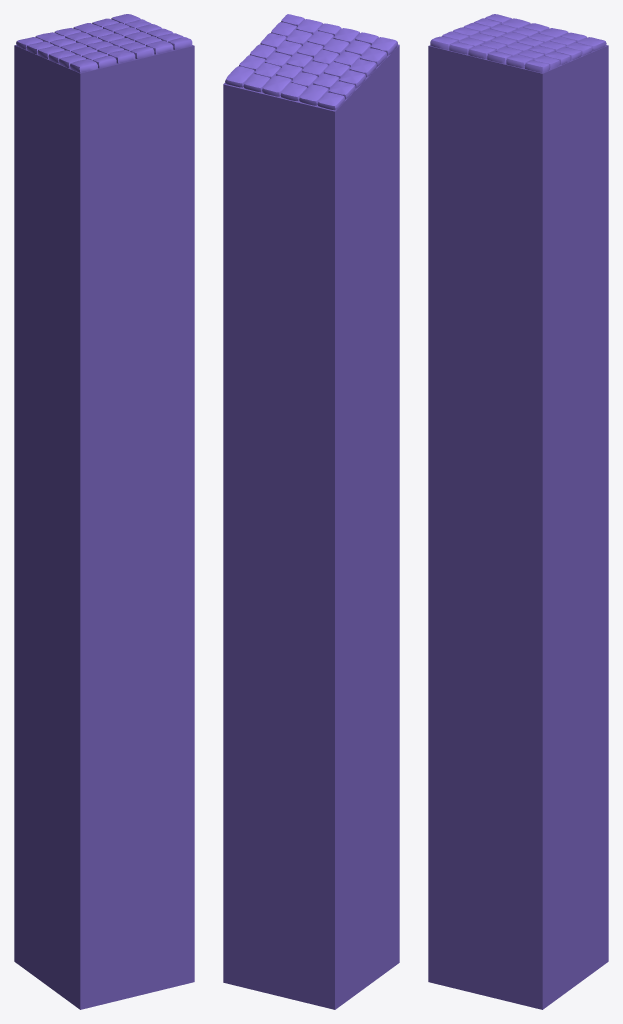
Rendered from TiltedTiles.fbx.
The picture shows the model from 3 angles, left to right: view 1: azimuth 30°, elevation 25°; view 2: azimuth 150°, elevation 25°; view 3: azimuth 330°, elevation 25°; orthographic projection. The views are drawn at different scales.
Visible parts, largest first — view 1: Cube.145; view 2: Cube.145; view 3: Cube.145.
Part boxes in pixels (<box>): Cube.145: <box>14,14,194,1009</box>; Cube.145: <box>223,14,399,1009</box>; Cube.145: <box>428,14,608,1009</box>.
Size of the model in its own units: 601 by 4727 by 600.
